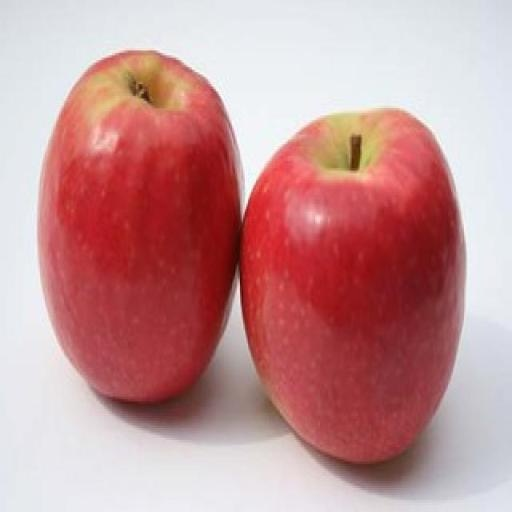fruit: (240, 110, 464, 462), (38, 52, 240, 401)
